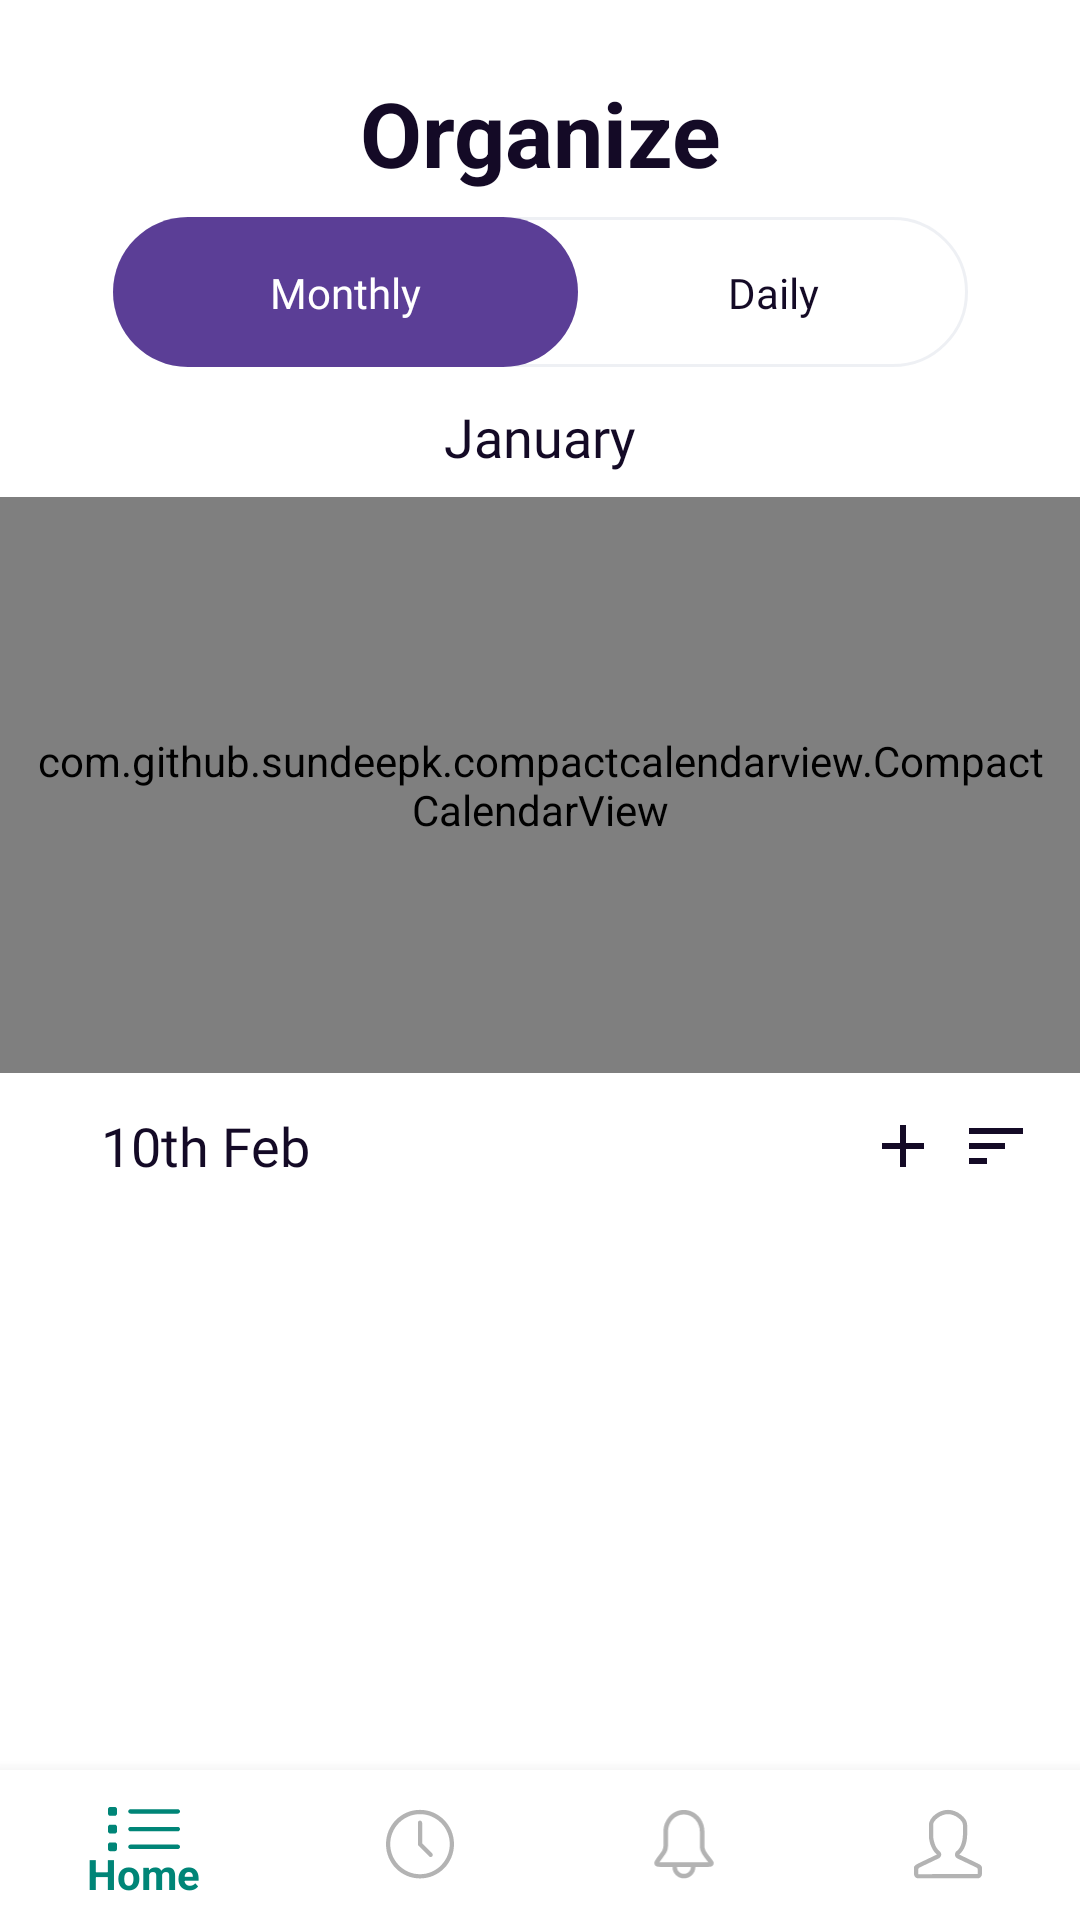

Icons on this 1080*1920 Android screen, each with its box as (x1, y1, x2, y2):
add: (882, 1125, 924, 1167)
sort: (969, 1128, 1023, 1164)
